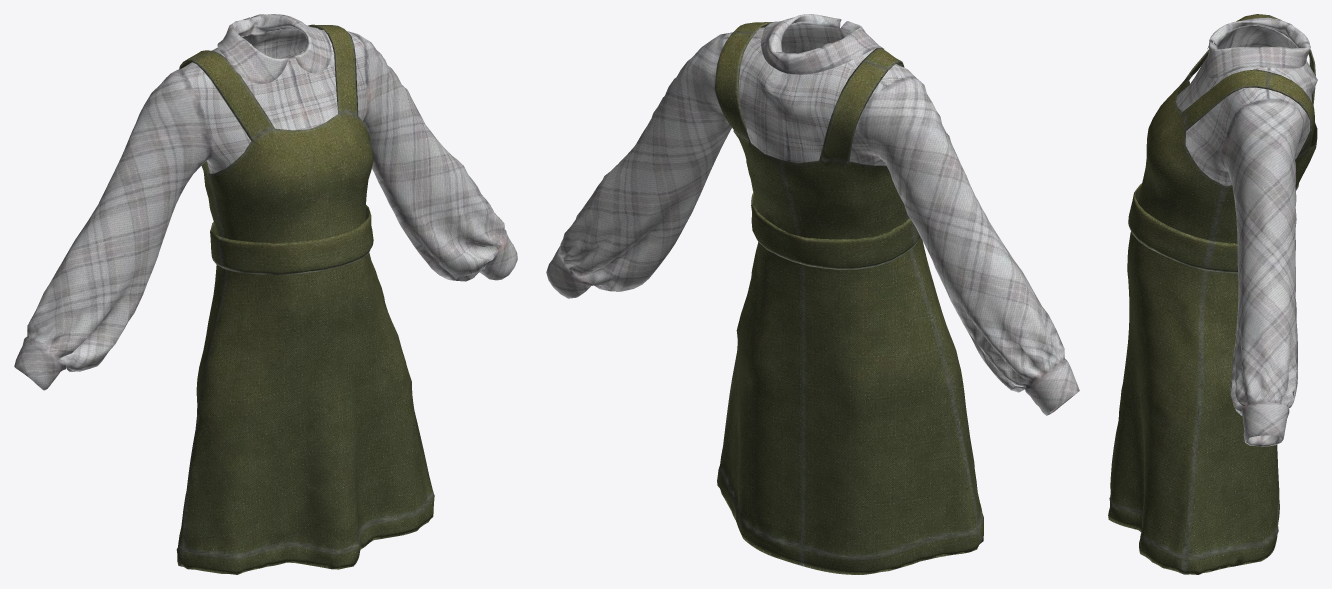
The model's file is puff_sleeve_and_jumper_skirt-optimized.glb.
3 renders of one model, left to right at view 1: azimuth 30°, elevation 25°; view 2: azimuth 150°, elevation 25°; view 3: azimuth 270°, elevation 25°, orthographic. The views are drawn at different scales.
Parts seen in each view (by area): view 1: skirt_skirt1_0, shirt_shirt1_0; view 2: skirt_skirt1_0, shirt_shirt1_0; view 3: skirt_skirt1_0, shirt_shirt1_0.
Boxes of the visible parts, x1,y1,x2,y2 form: skirt_skirt1_0: [176, 24, 434, 574]; shirt_shirt1_0: [14, 14, 517, 390]; skirt_skirt1_0: [714, 22, 983, 574]; shirt_shirt1_0: [546, 14, 1079, 415]; skirt_skirt1_0: [1108, 14, 1317, 574]; shirt_shirt1_0: [1176, 17, 1317, 446].
Size of the model in its own units: 7.95 by 7.66 by 2.91.
Materials: 2 (2 with a texture image).
